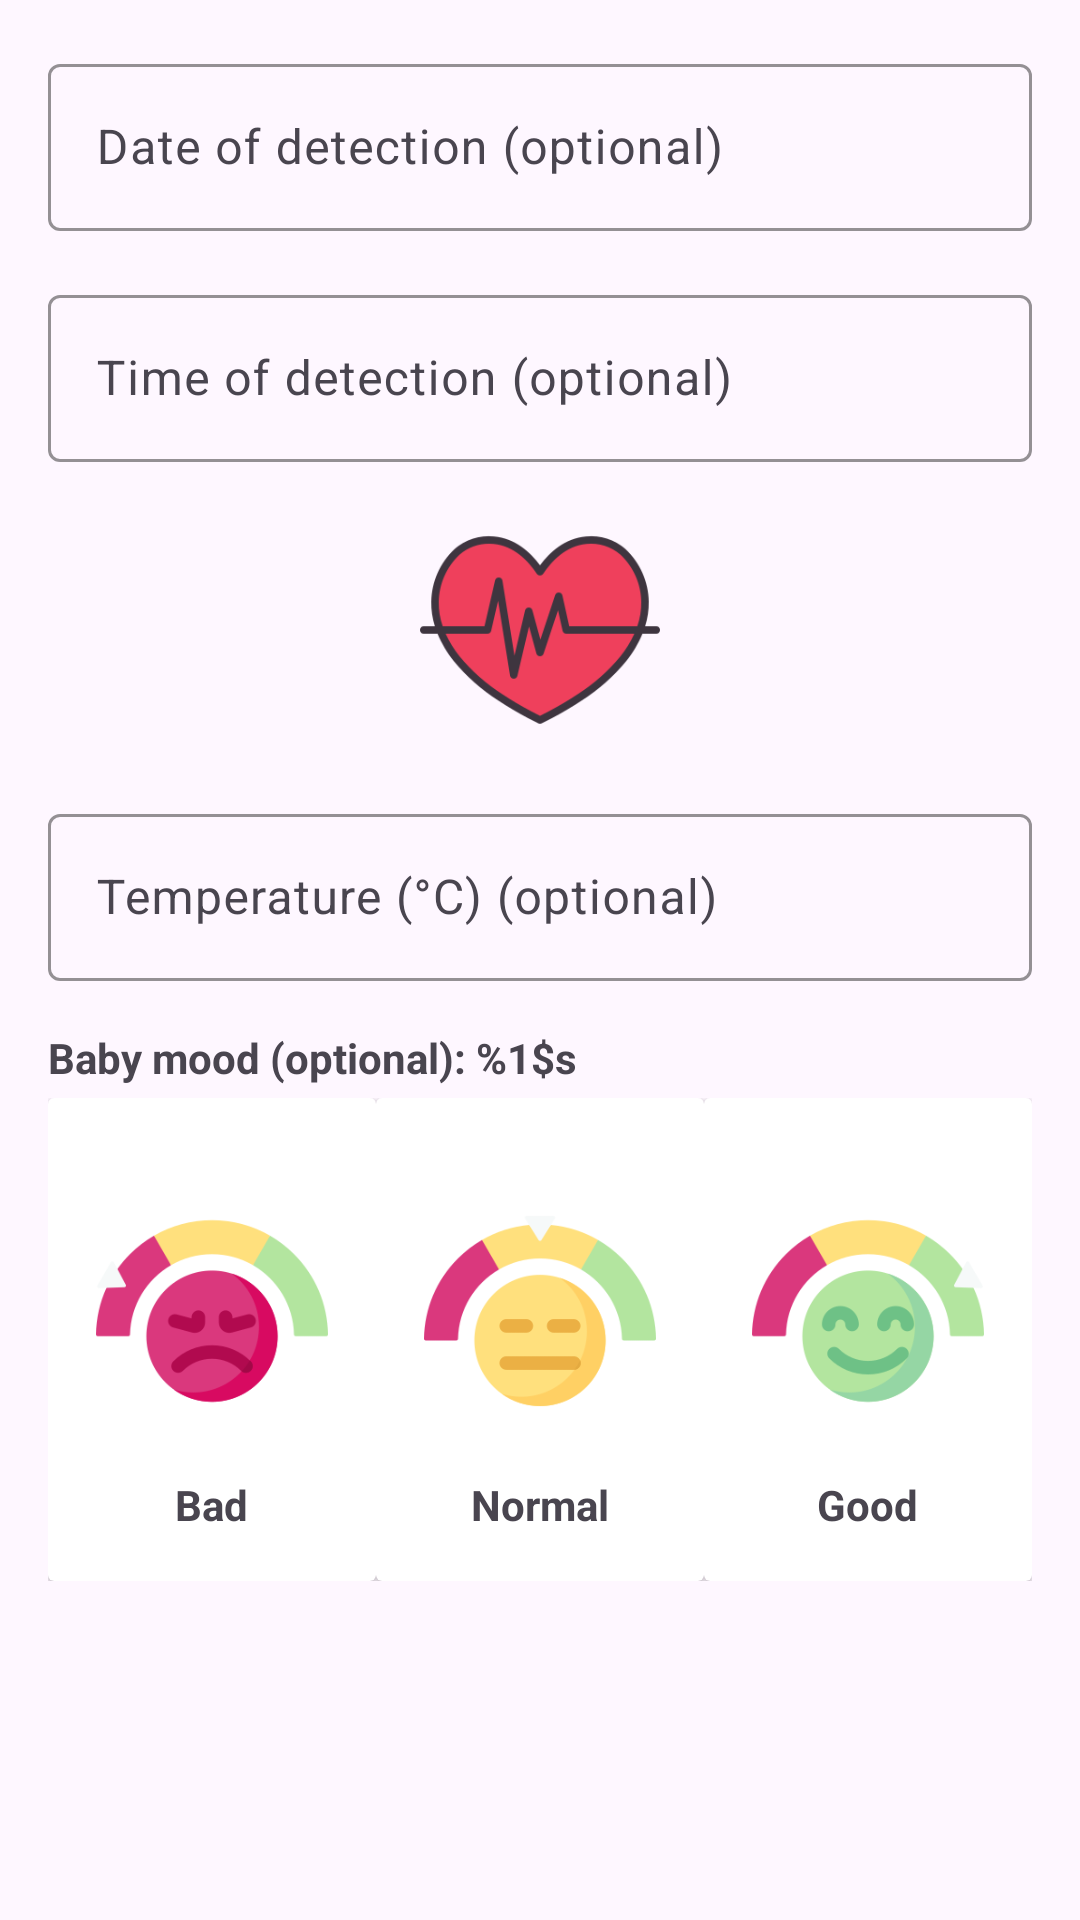

Point at icon controls on the screen. Image size 1080px×1920px, points as point (x, y).
vitals: point (540, 630)
